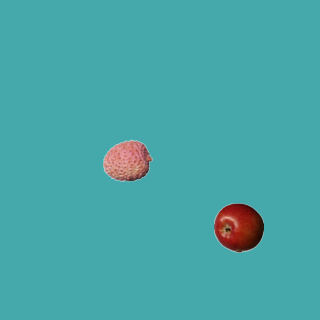Apple Braeburn: (213, 202, 263, 252)
Lychee: (102, 135, 152, 185)
